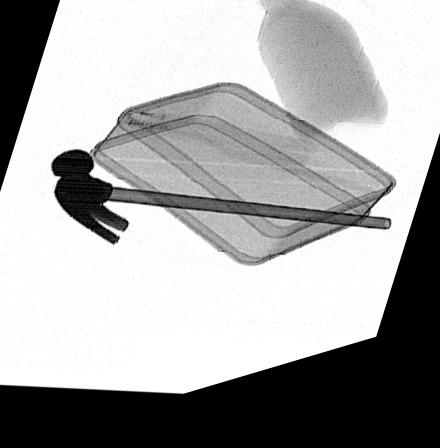Hammer: (48, 153, 392, 252)
